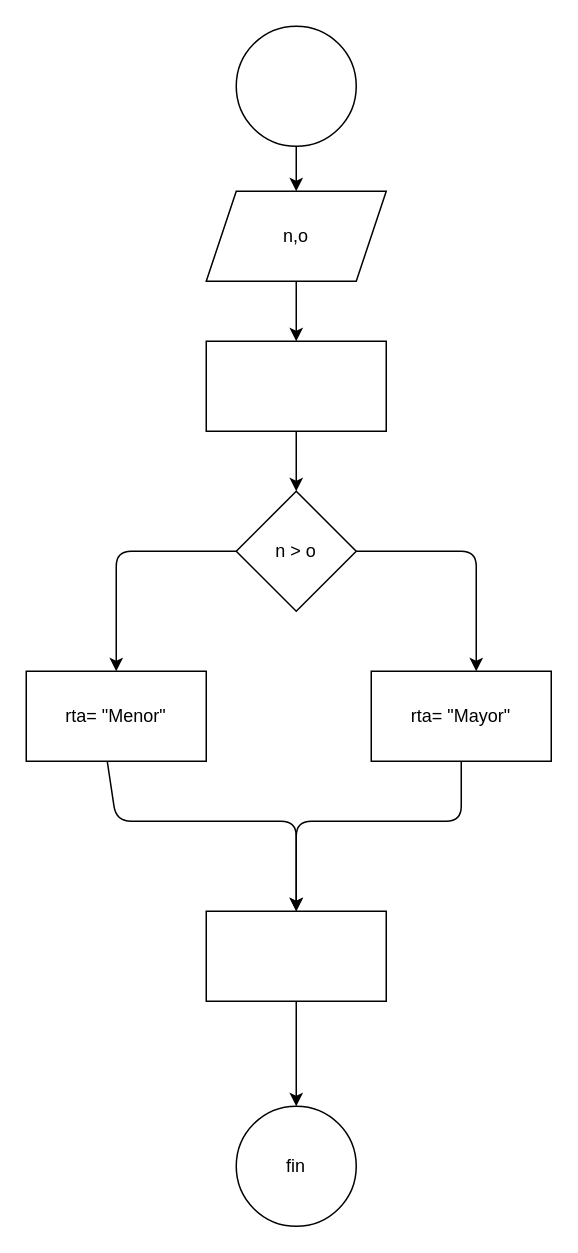
This 578x1253 diagram has some shape labels left out. The shapes that lost their labels are listed below. From the top down, each one's box as (x1, y1, x2, y2) in pixels, then its label:
(235, 25, 356, 146): Inicio
(205, 340, 386, 431): h=n<o p=n>o
(205, 910, 386, 1001): rta
